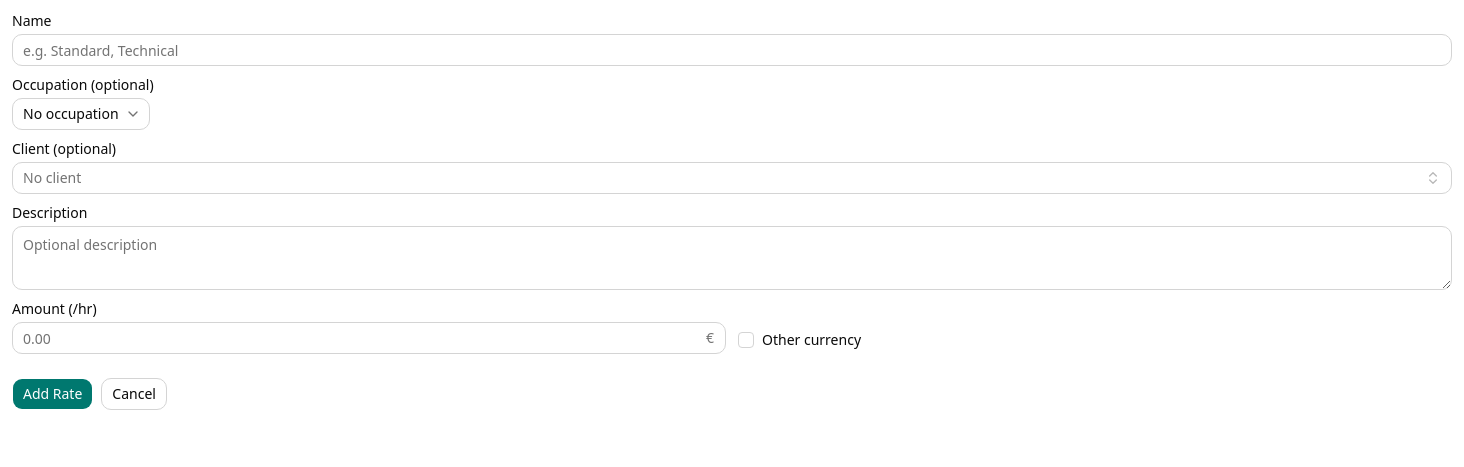
Test: RateForm › shows error when amount is not a number
The width and height of the screenshot is (1464, 467).
Type "Test" into the field labelled "Name" at (732, 50), box [12,34,1452,66]
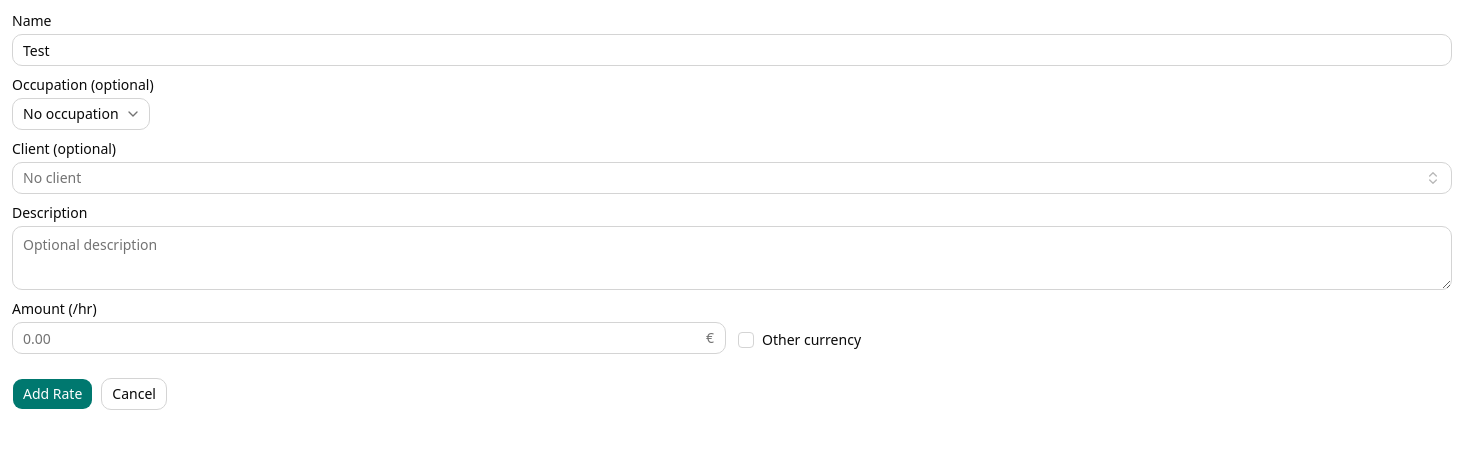
Type "abc" into the field labelled "Amount (/hr)" at (369, 338), box [12,322,726,354]
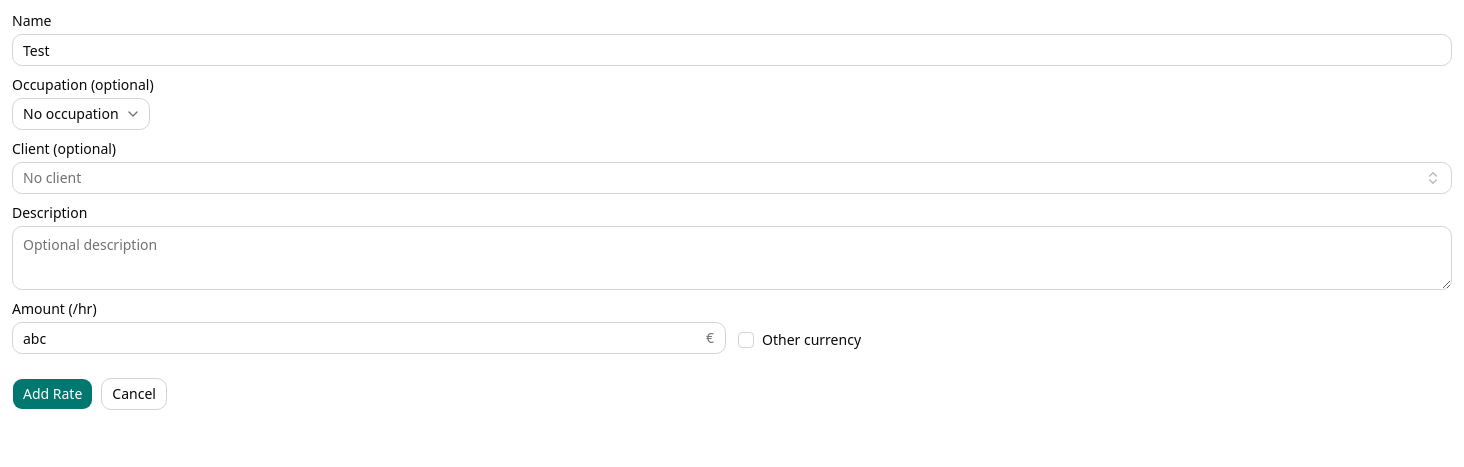
Click the button "Add Rate" at (53, 394), box [12,378,93,410]
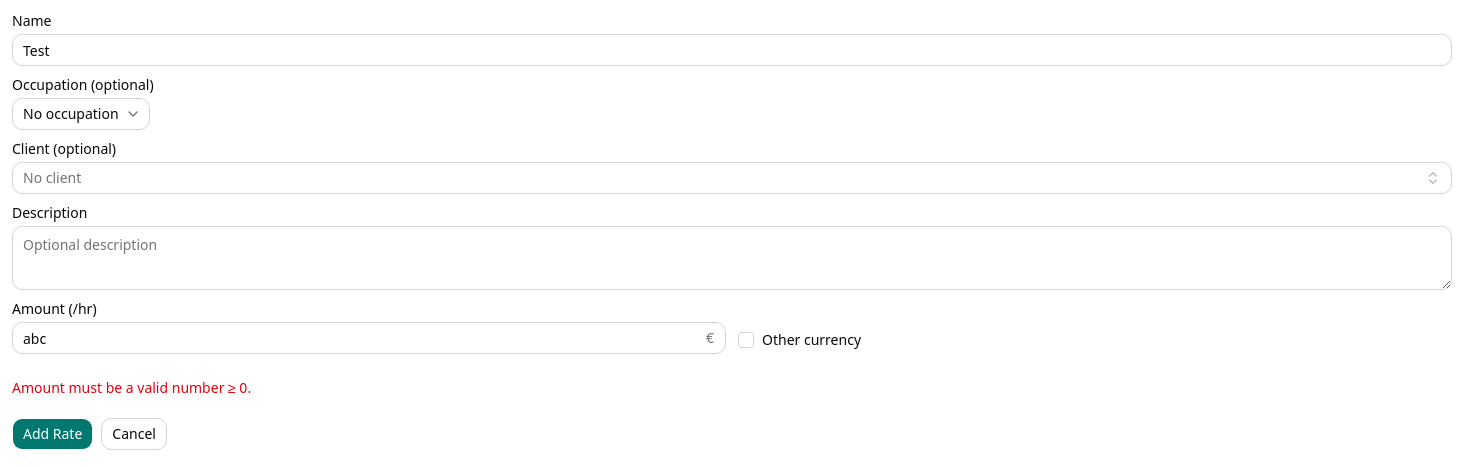
Expected: the text "Amount must be a valid number ≥ 0." is shown, [12,378,251,397]
